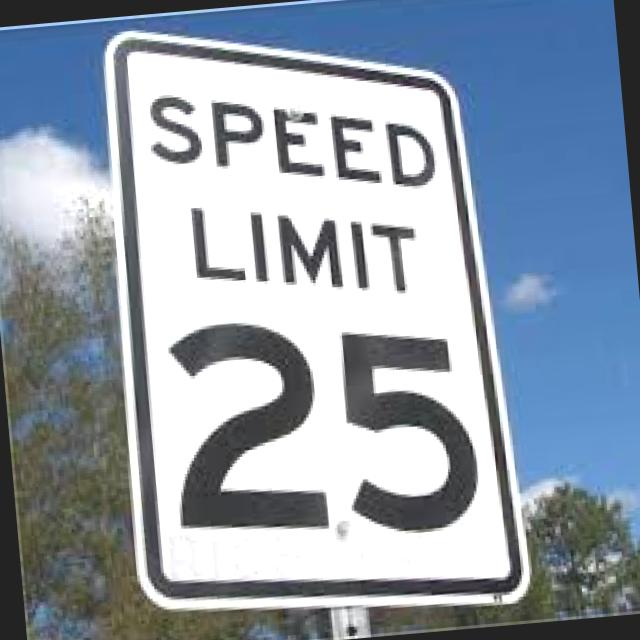Speed Limit Signs: (87, 0, 537, 635)
